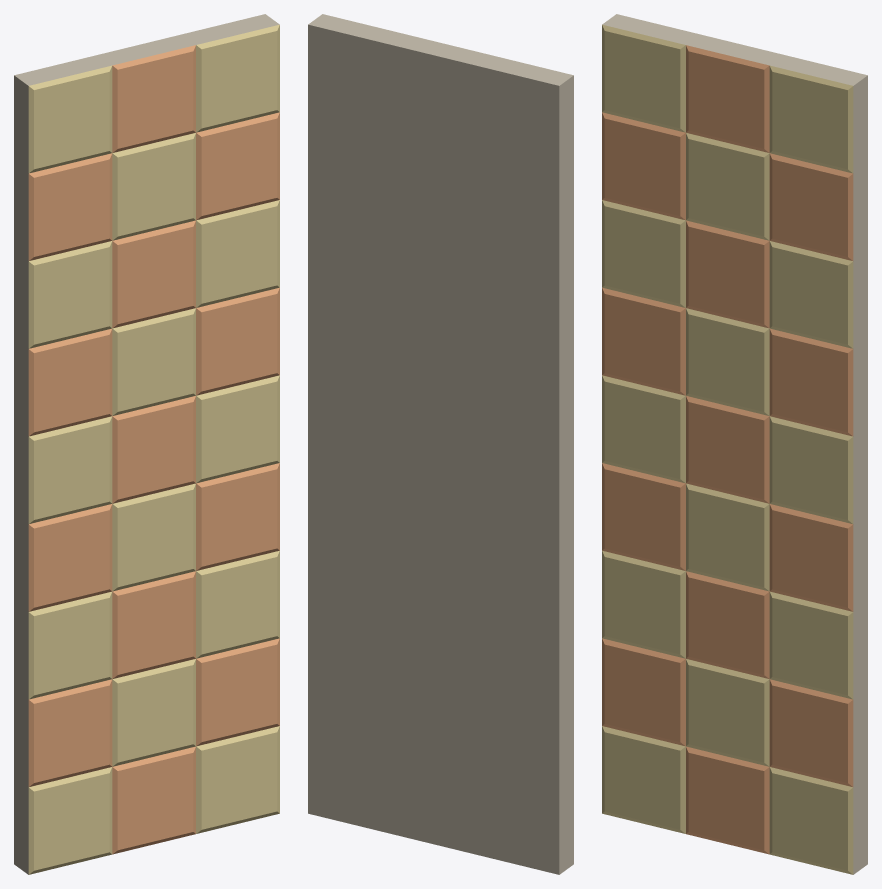
Rendered from Mesh_WallCeramic_P1.fbx.
3 renders of one model, left to right at view 1: azimuth 30°, elevation 25°; view 2: azimuth 150°, elevation 25°; view 3: azimuth 330°, elevation 25°, orthographic.
Visible parts, largest first — view 1: Mesh_WallCeramic_P1; view 2: Mesh_WallCeramic_P1; view 3: Mesh_WallCeramic_P1.
Boxes of the visible parts, x1=… form: Mesh_WallCeramic_P1: x1=14, y1=14, x2=279, y2=874; Mesh_WallCeramic_P1: x1=308, y1=14, x2=573, y2=874; Mesh_WallCeramic_P1: x1=602, y1=14, x2=867, y2=874.
Bounding box in the file's own units: 1 × 3 × 0.1096.
